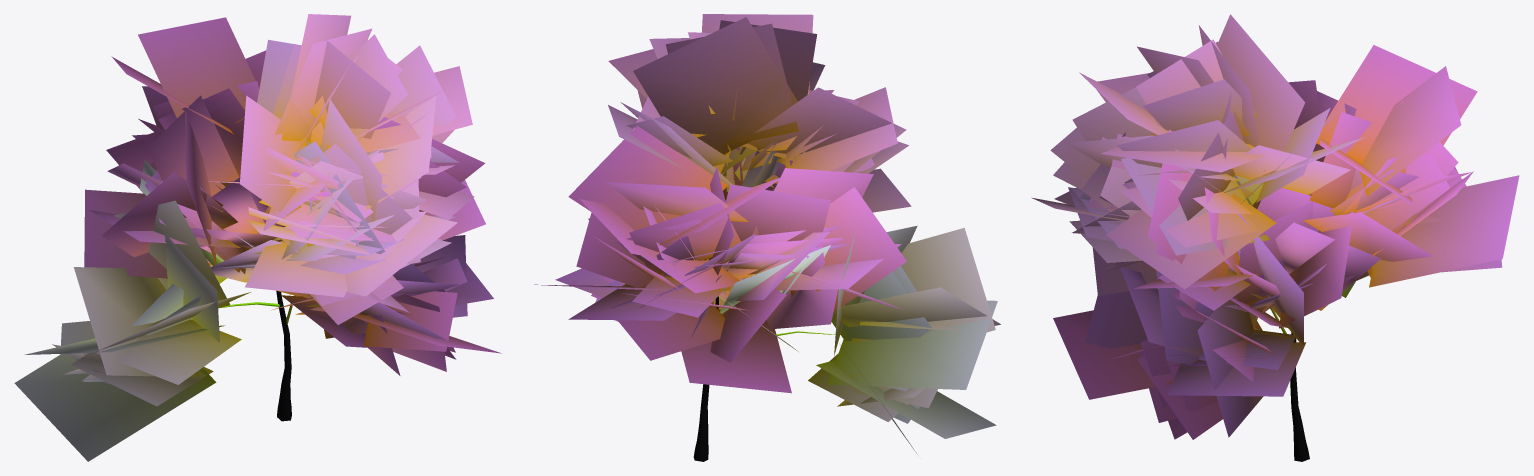
The model's file is tree_pagoda_a_lod1.glb.
3 renders of one model, left to right at view 1: azimuth 30°, elevation 25°; view 2: azimuth 150°, elevation 25°; view 3: azimuth 270°, elevation 25°, orthographic. The views are drawn at different scales.
Visible parts, largest first — view 1: tree_pagoda_a_lod1; view 2: tree_pagoda_a_lod1; view 3: tree_pagoda_a_lod1.
Boxes of the visible parts, x1=… form: tree_pagoda_a_lod1: x1=14, y1=14, x2=501, y2=461; tree_pagoda_a_lod1: x1=534, y1=14, x2=1000, y2=461; tree_pagoda_a_lod1: x1=1031, y1=14, x2=1519, y2=461.
Size of the model in its own units: 16.97 by 16.46 by 16.59.
